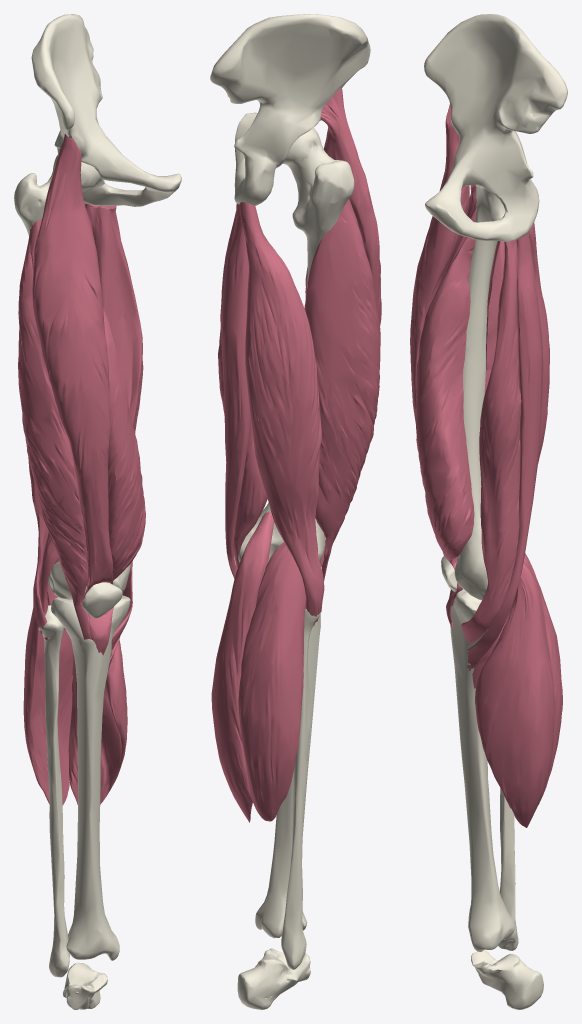
The model's file is knee.glb.
The picture shows the model from 3 angles, left to right: view 1: azimuth 30°, elevation 25°; view 2: azimuth 150°, elevation 25°; view 3: azimuth 270°, elevation 25°; orthographic projection. The views are drawn at different scales.
Visible parts, largest first — view 1: rectus-femoris, vastus-lateralis, tibia, hip-bone, gastrocnemius, vastus-medialis, semimembranosus, fibula, femur, calcaneus, biceps-femoris-long-head, patella (+1 smaller); view 2: gastrocnemius, biceps-femoris-long-head, vastus-lateralis, hip-bone, semitendinosus, femur, fibula, tibia, rectus-femoris, semimembranosus, calcaneus; view 3: hip-bone, gastrocnemius, vastus-medialis, semimembranosus, tibia, semitendinosus, femur, rectus-femoris, calcaneus, fibula, vastus-lateralis, biceps-femoris-long-head.
Boxes of the visible parts, x1,y1,x2,y2 form: rectus-femoris: (32, 134, 113, 655); vastus-lateralis: (18, 218, 91, 639); tibia: (51, 595, 130, 960); hip-bone: (31, 14, 181, 206); gastrocnemius: (23, 558, 127, 805); vastus-medialis: (103, 308, 145, 614); semimembranosus: (90, 205, 143, 649); fibula: (38, 605, 69, 977); femur: (14, 153, 130, 599); calcaneus: (62, 962, 107, 1009); biceps-femoris-long-head: (26, 203, 85, 634); patella: (82, 582, 122, 618); gastrocnemius: (211, 512, 306, 822); biceps-femoris-long-head: (239, 202, 324, 623); vastus-lateralis: (304, 199, 380, 580); hip-bone: (210, 14, 370, 205); semitendinosus: (221, 203, 250, 578); femur: (238, 128, 354, 562); fibula: (281, 608, 320, 969); tibia: (255, 614, 320, 938); rectus-femoris: (320, 88, 381, 325); semimembranosus: (218, 211, 267, 568); calcaneus: (237, 948, 310, 1009); hip-bone: (424, 14, 567, 241); gastrocnemius: (475, 553, 562, 827); vastus-medialis: (416, 236, 475, 603); semimembranosus: (461, 239, 521, 643); tibia: (450, 589, 514, 951); semitendinosus: (467, 232, 543, 670); femur: (454, 185, 505, 600); rectus-femoris: (410, 104, 469, 629); calcaneus: (471, 950, 543, 1009); fibula: (498, 788, 518, 950); vastus-lateralis: (467, 185, 504, 370); biceps-femoris-long-head: (496, 222, 549, 463).
Size of the model in its own units: 0.1568 by 1.03 by 0.1513.
